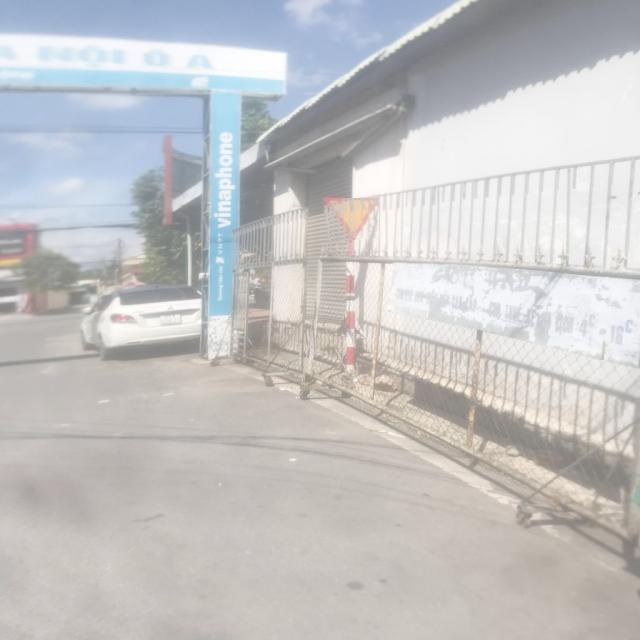208-giao-nhau-voi-duong-uu-tien: (324, 196, 380, 240)
